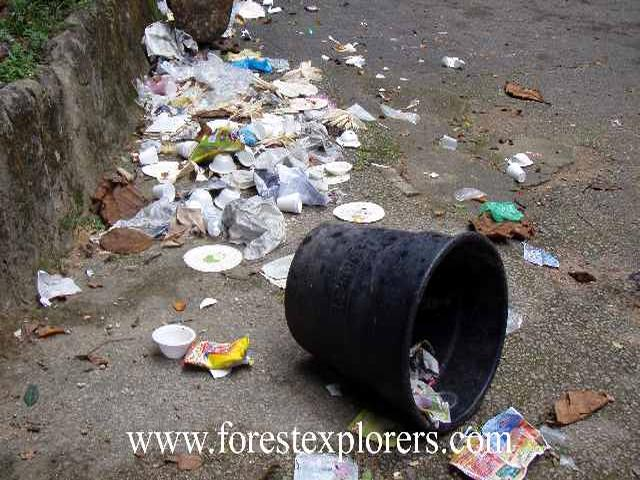garbage: (150, 50, 305, 242)
